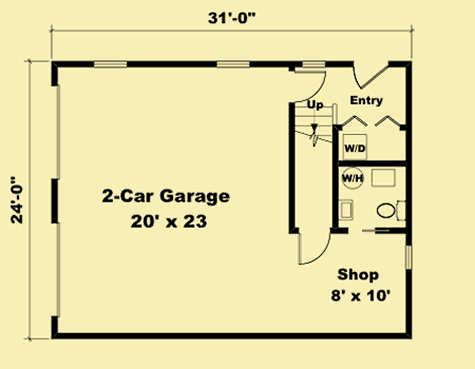door: (297, 227, 332, 267), (286, 70, 327, 103), (350, 58, 390, 89)
large_sink: (374, 197, 405, 223)
stairs: (286, 101, 340, 146)
window: (90, 58, 131, 69), (215, 58, 250, 69), (404, 244, 415, 270), (300, 59, 327, 68)
